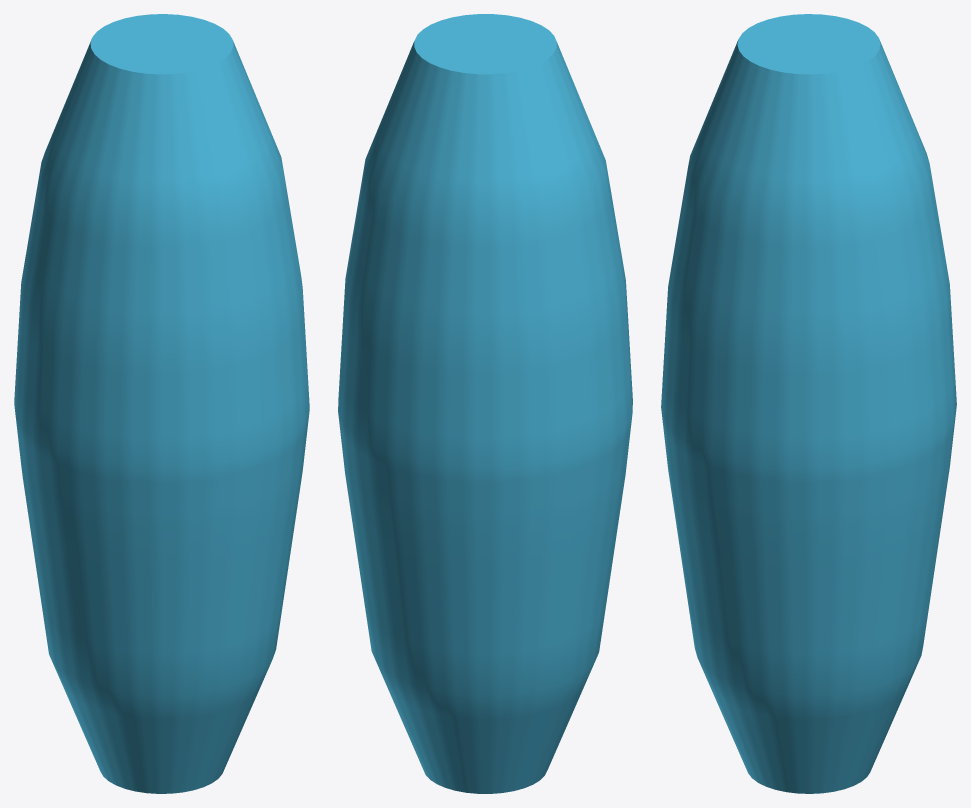
Rendered from rocket body.fbx.
3 views of the same model, side by side, from view 1: azimuth 30°, elevation 25°; view 2: azimuth 150°, elevation 25°; view 3: azimuth 270°, elevation 25° (orthographic).
Visible parts, largest first — view 1: Cylinder.001; view 2: Cylinder.001; view 3: Cylinder.001.
Boxes of the visible parts, left/top/right/bottom form: Cylinder.001: left=14, top=14, right=309, bottom=793; Cylinder.001: left=338, top=14, right=632, bottom=793; Cylinder.001: left=661, top=14, right=956, bottom=793.
Bounding box in the file's own units: 210 × 566 × 210.
